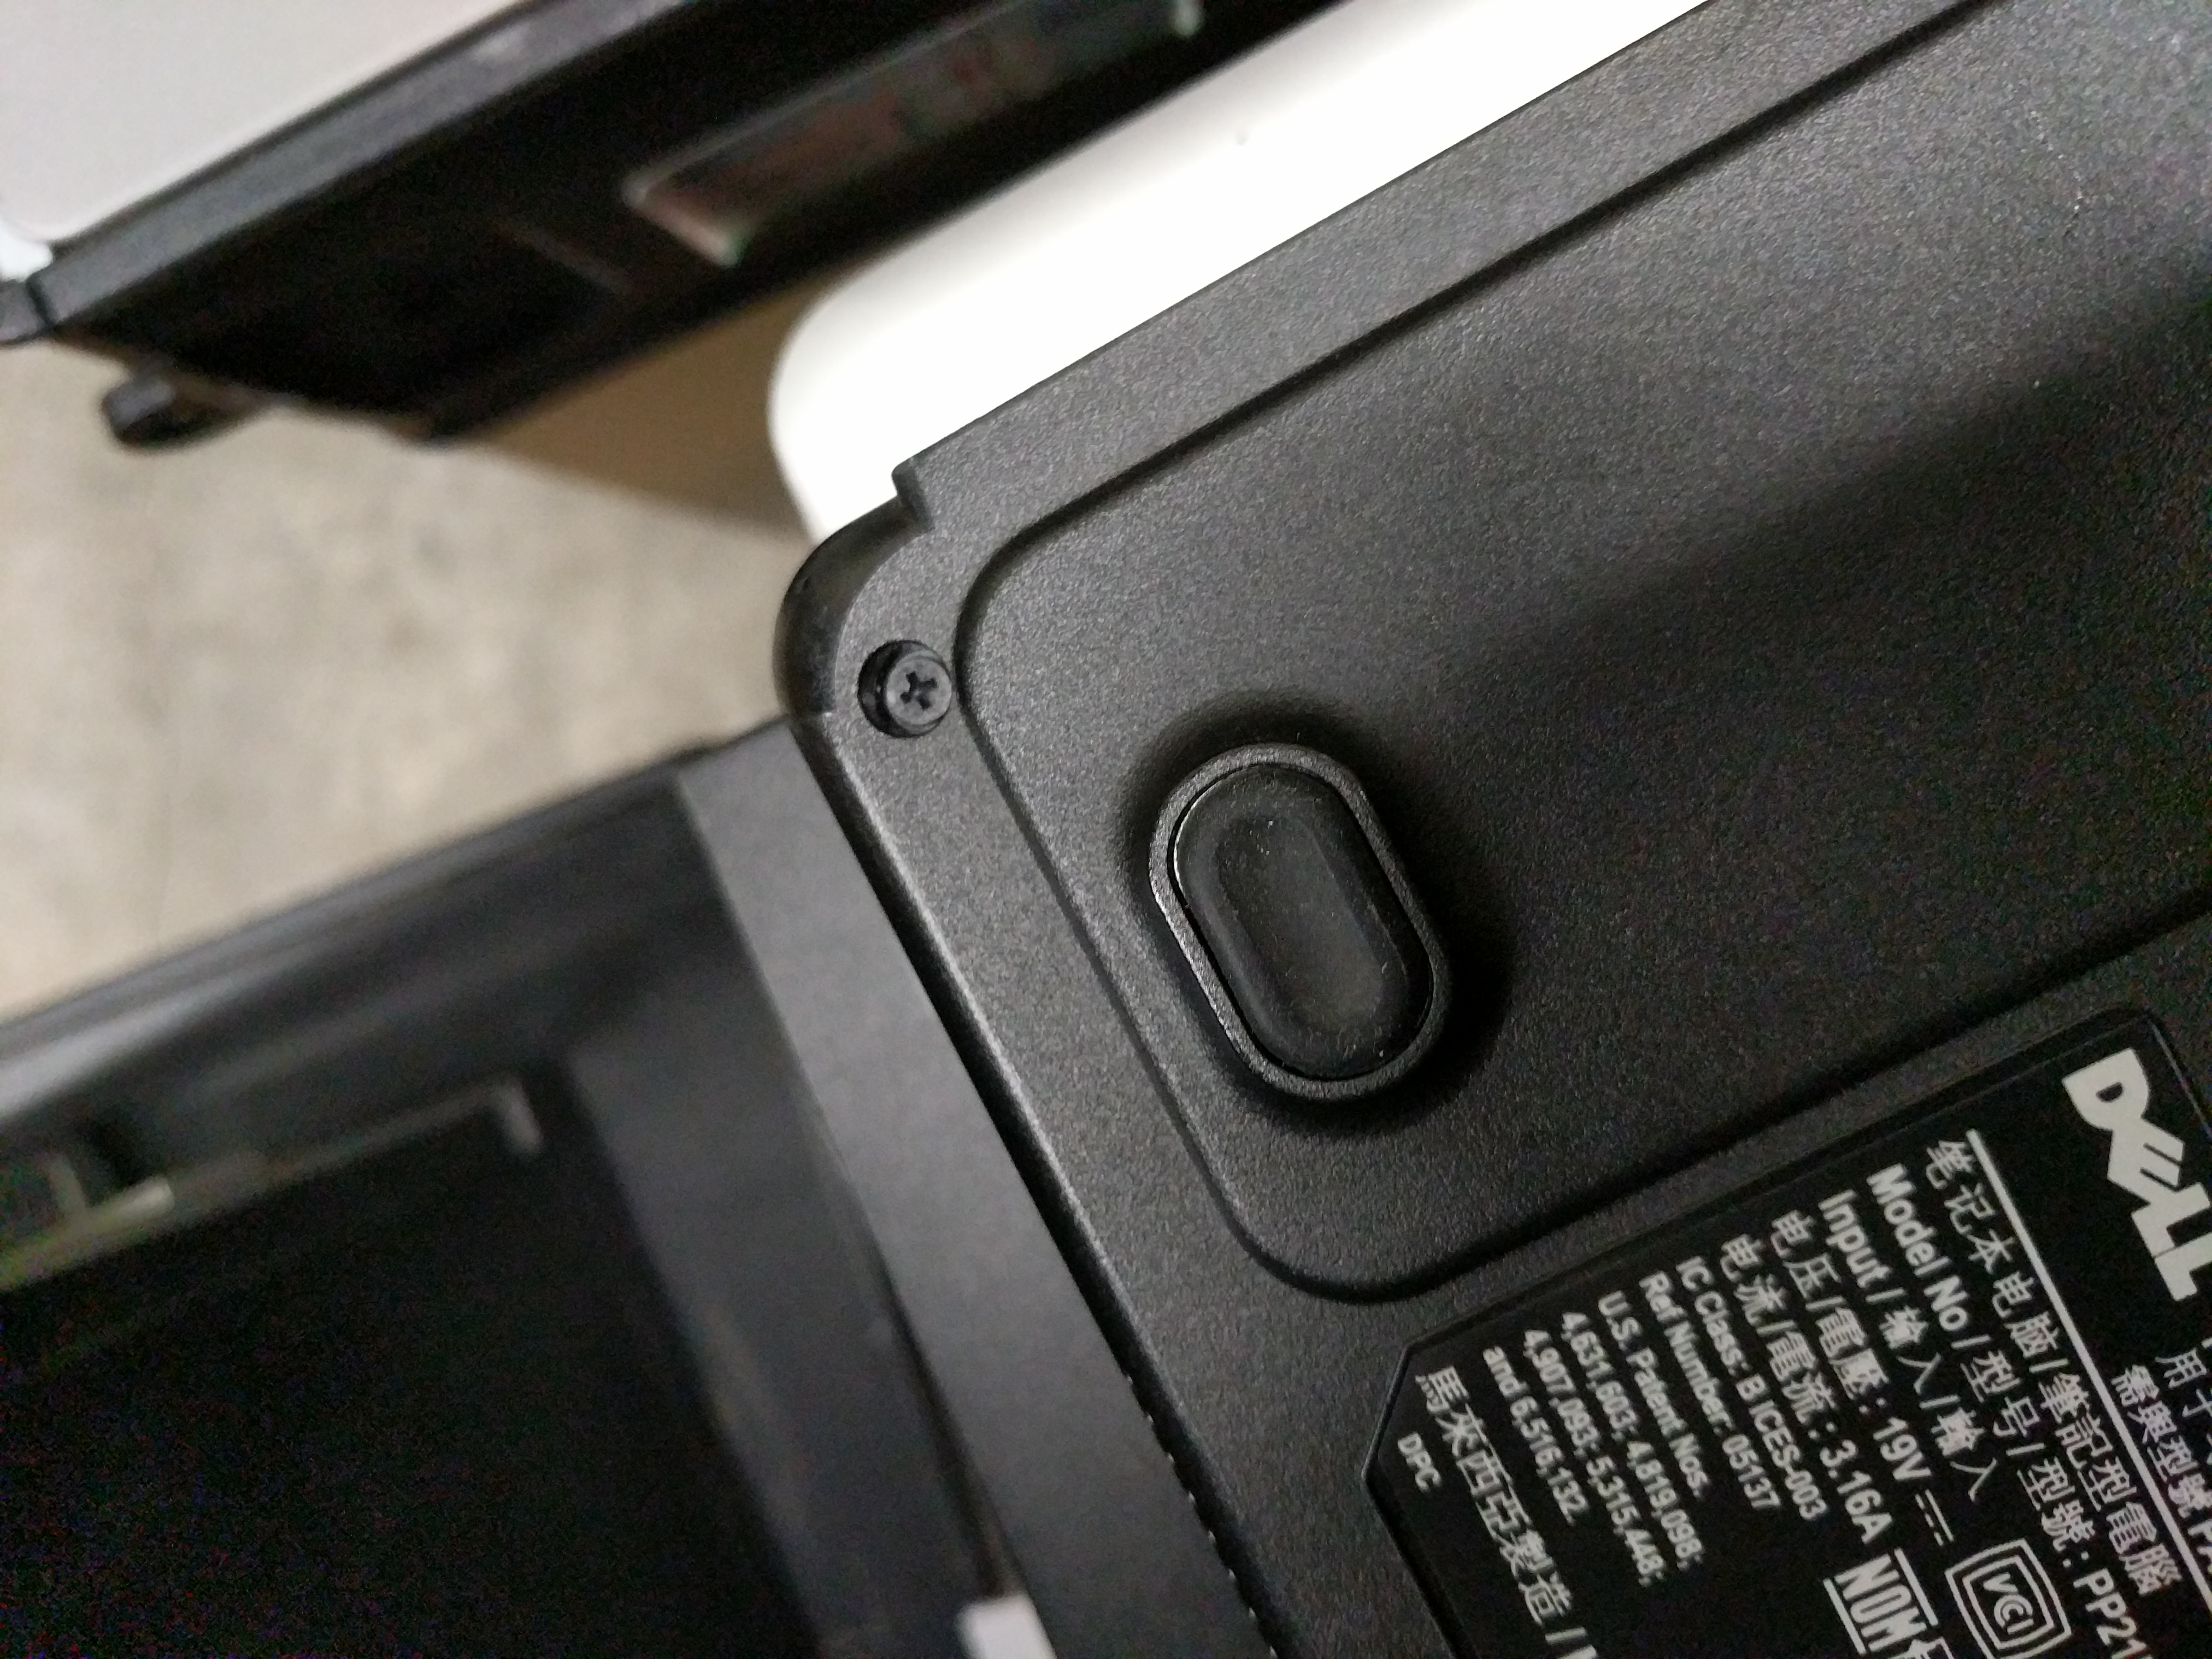cross_recessed_screw: (857, 636, 972, 734)
